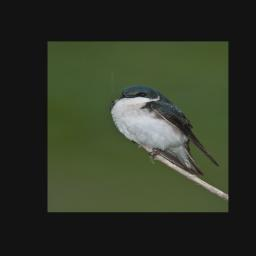Swallow: (107, 83, 220, 177)
